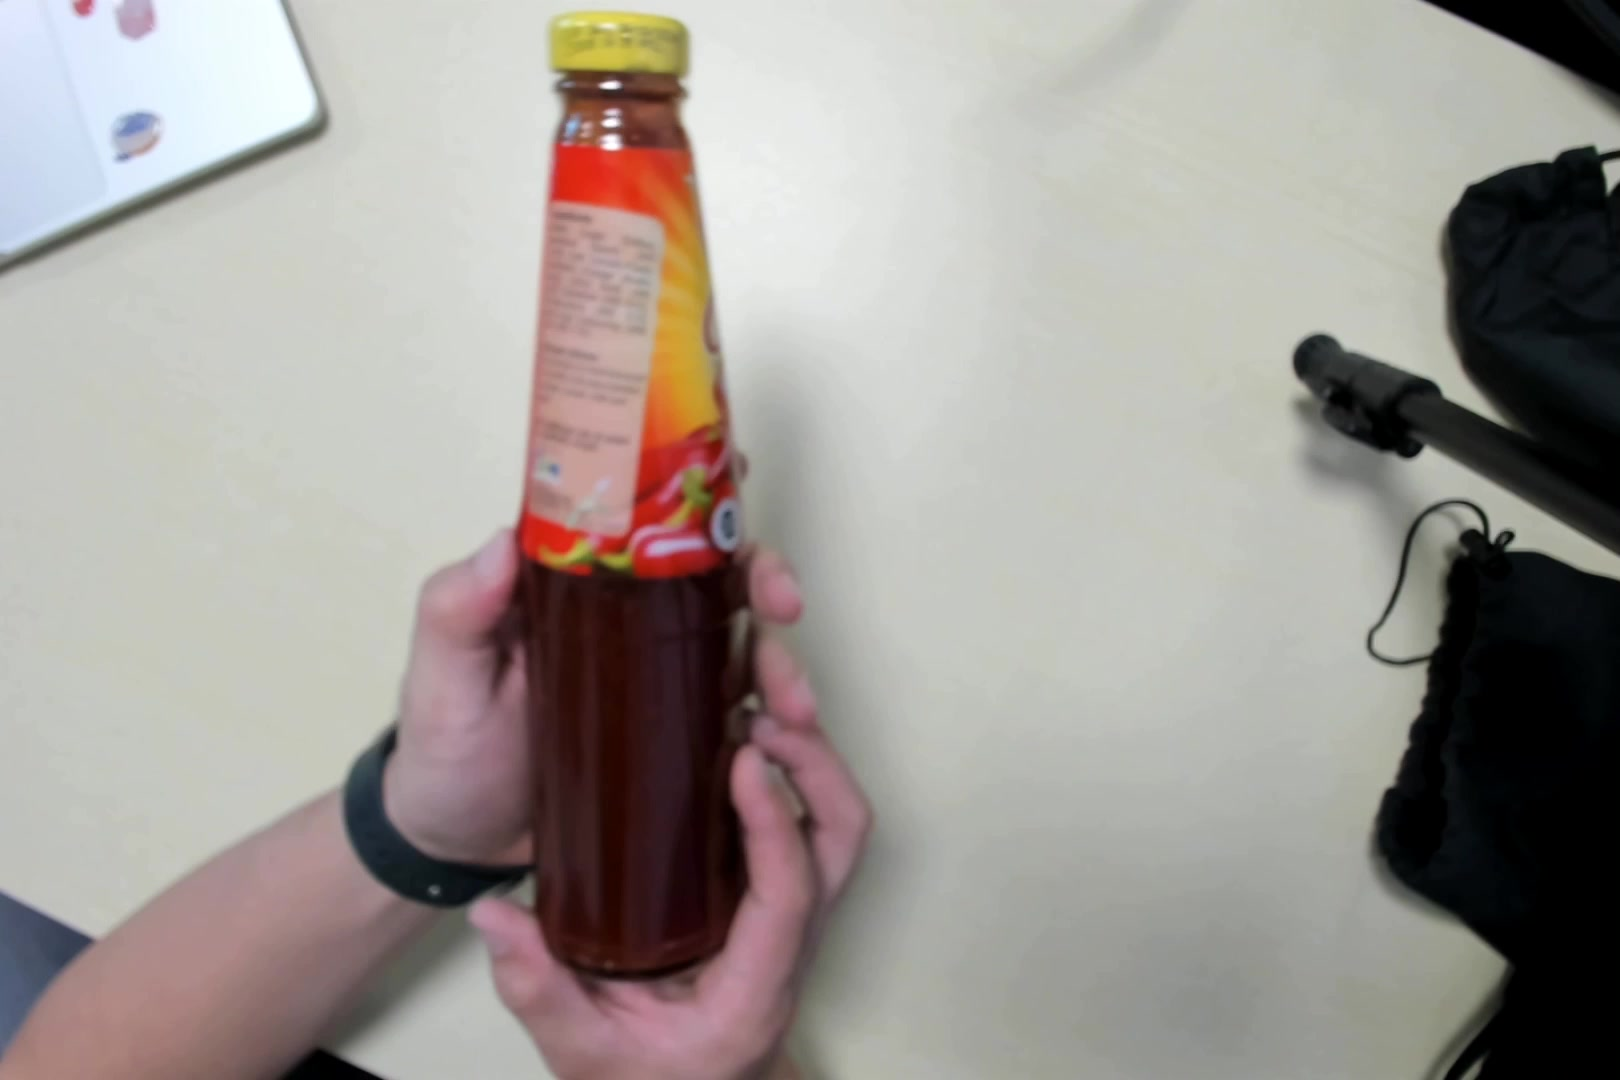KetchupChillSauce_500-599g_Halal_NonHealthy: (495, 2, 765, 961)
